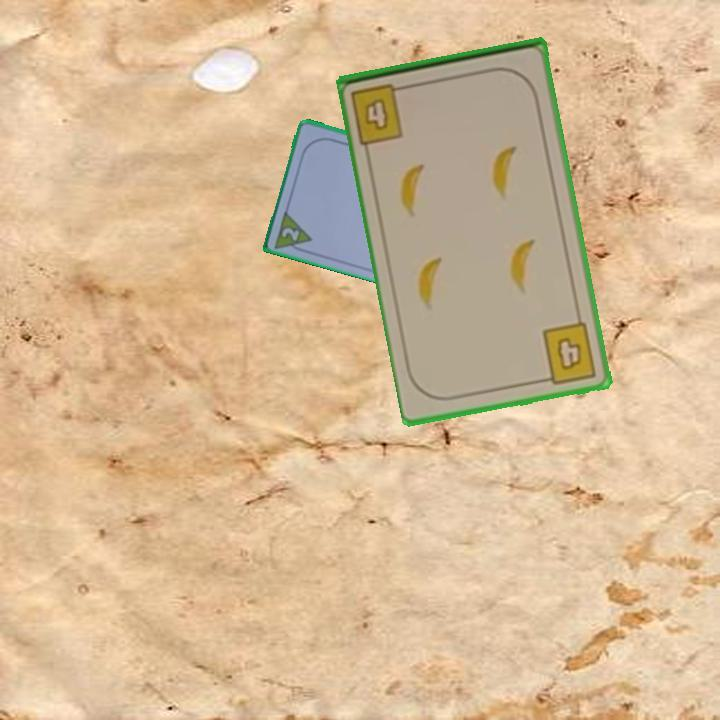2p: (271, 206, 316, 256)
4b: (347, 79, 413, 147), (537, 319, 600, 387)
